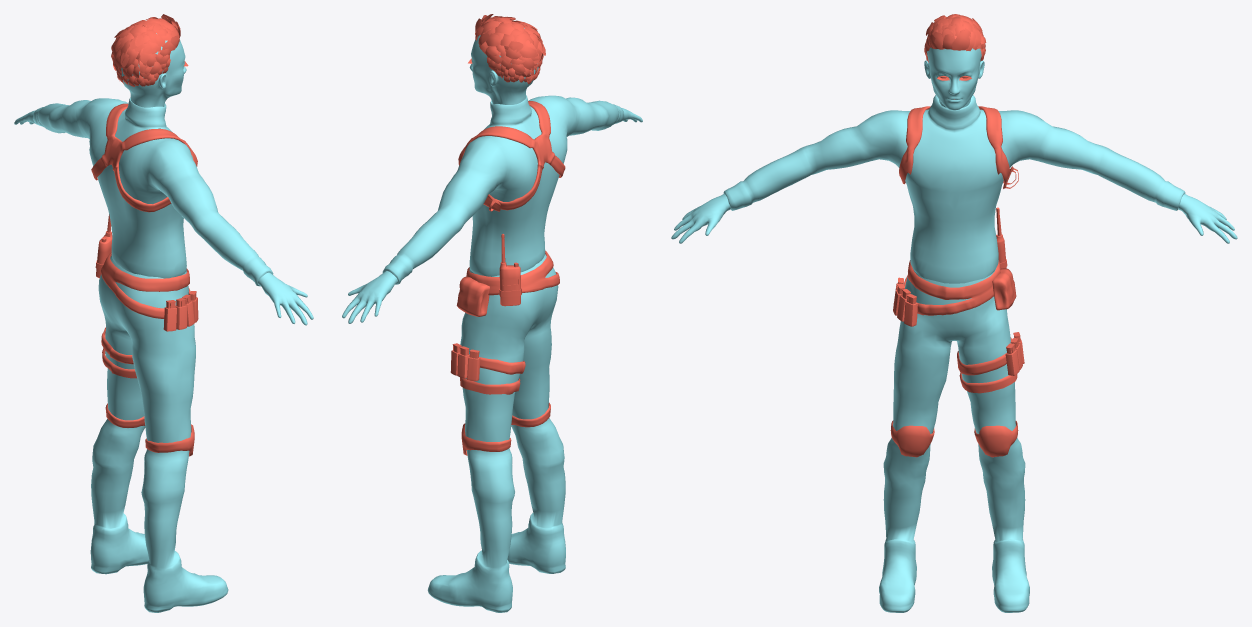
File: Police_conMaterial.fbx
3 renders of one model, left to right at view 1: azimuth 30°, elevation 25°; view 2: azimuth 150°, elevation 25°; view 3: azimuth 270°, elevation 25°, orthographic. The views are drawn at different scales.
Parts seen in each view (by area): view 1: Mesh_Police, Hair_Police; view 2: Mesh_Police, Hair_Police; view 3: Mesh_Police, Hair_Police.
Boxes of the visible parts, x1,y1,x2,y2 form: Mesh_Police: (14,33,313,612); Hair_Police: (111,14,180,86); Mesh_Police: (342,28,642,612); Hair_Police: (475,14,545,84); Mesh_Police: (671,47,1237,612); Hair_Police: (924,14,986,62).
Bounding box in the file's own units: 28.75 × 170 × 151.
